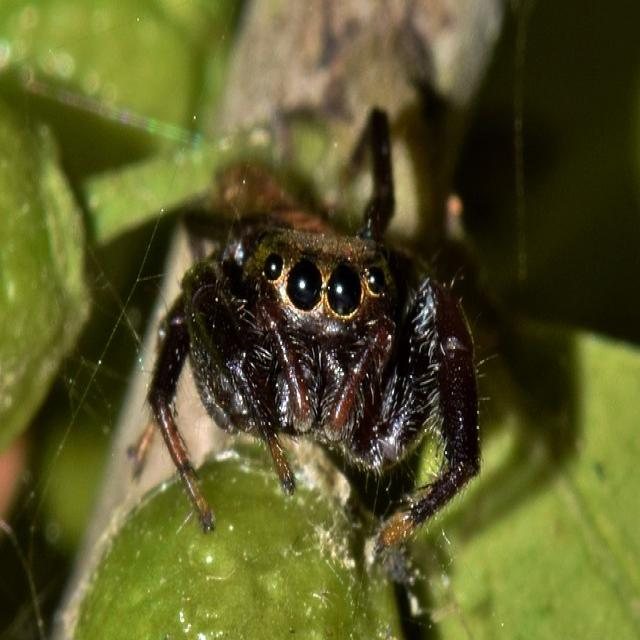spyder: (149, 110, 479, 546)
